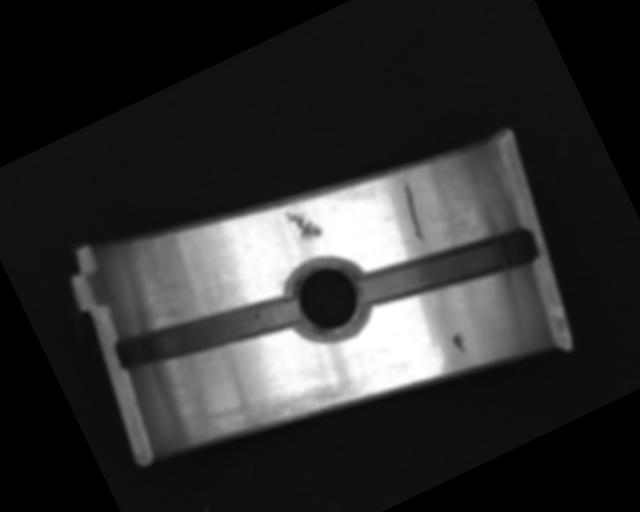bruise: (281, 200, 326, 248), (450, 330, 471, 357)
gap: (111, 265, 305, 401), (356, 205, 540, 332)
hole: (276, 248, 383, 356)
nick: (391, 175, 435, 244)
scratch: (206, 350, 368, 463)
